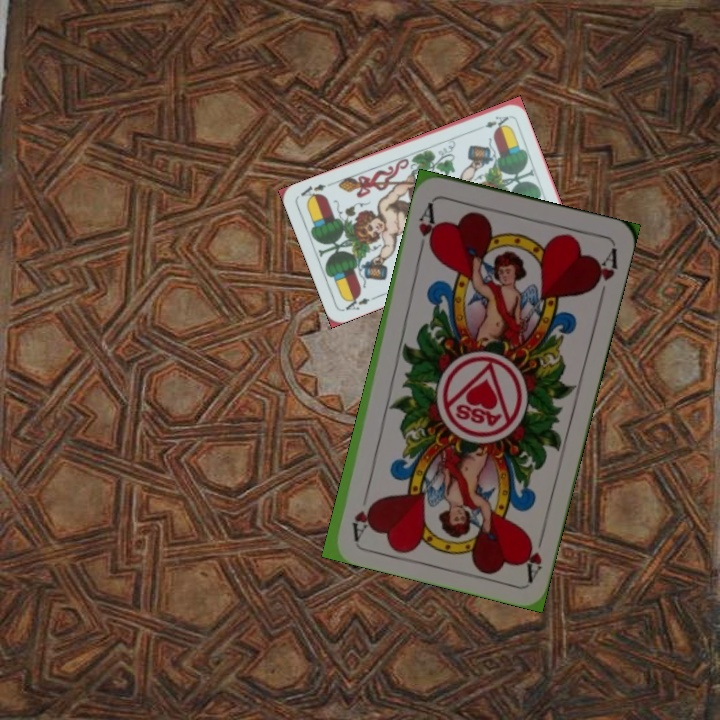EA: (341, 291, 379, 313), (481, 112, 511, 130)
HA: (518, 525, 548, 583), (414, 198, 440, 256)
